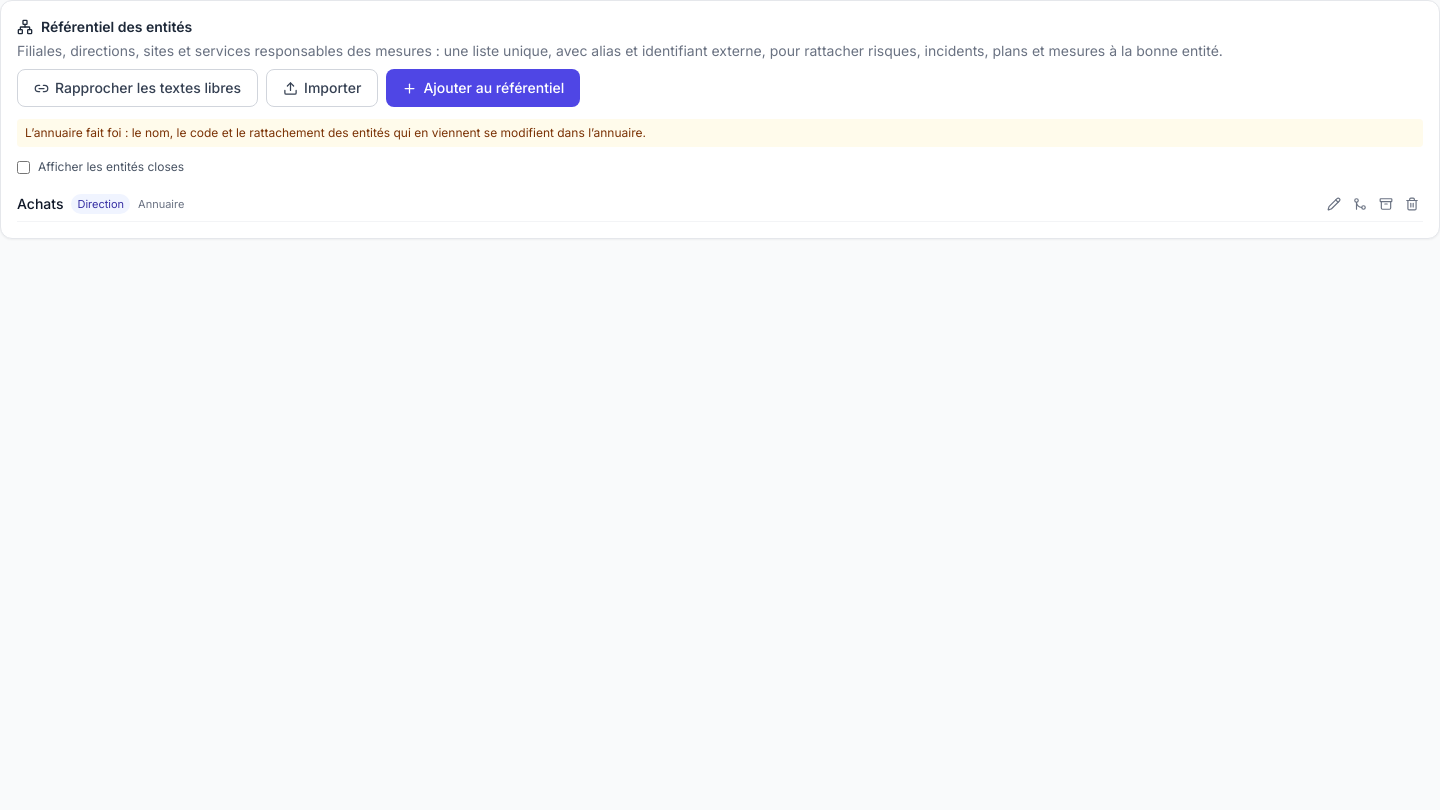
Test case: ReferentielEntites › annuaire source de vérité : nom verrouillé pour une entité venue de l’annuaire
Expected: the text "L’annuaire fait foi" is shown, [25,125,646,140]
Click the button named "Modifier Achats" at (1334, 204), box [1323,193,1345,215]
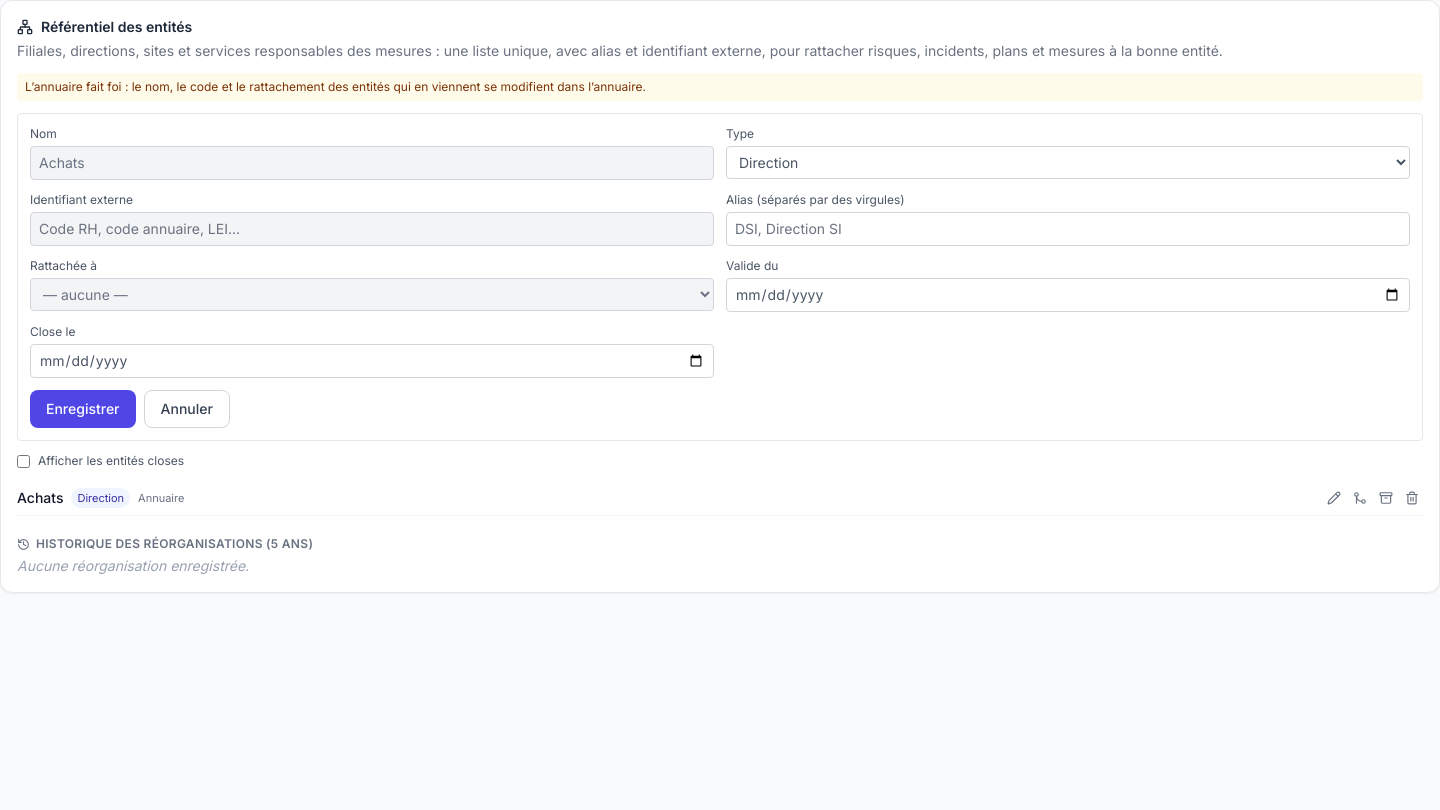
Result: the field labelled "Nom" is disabled at [30,146,714,180]
Result: the field labelled "Alias (séparés par des virgules)" is enabled at [726,212,1410,246]
